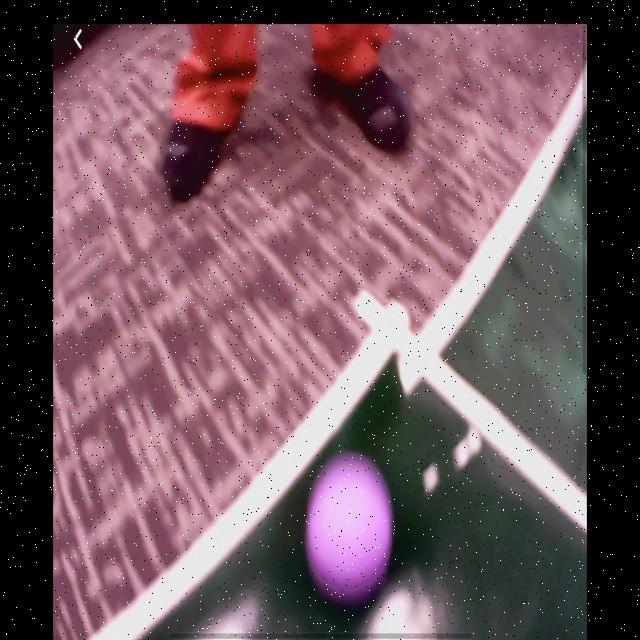ball: (309, 453, 394, 600)
